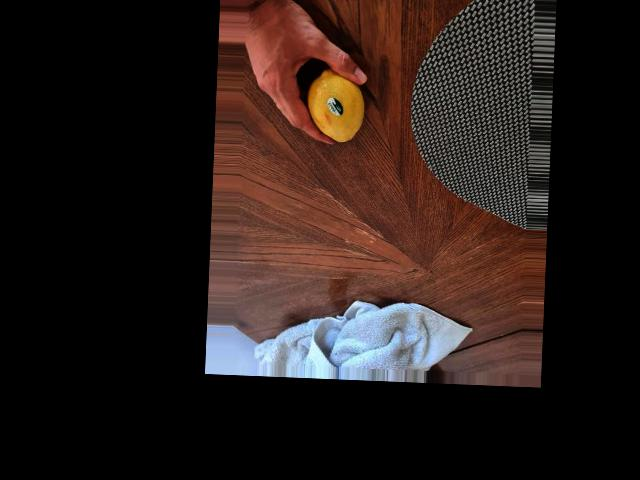lemon: (309, 65, 364, 146)
